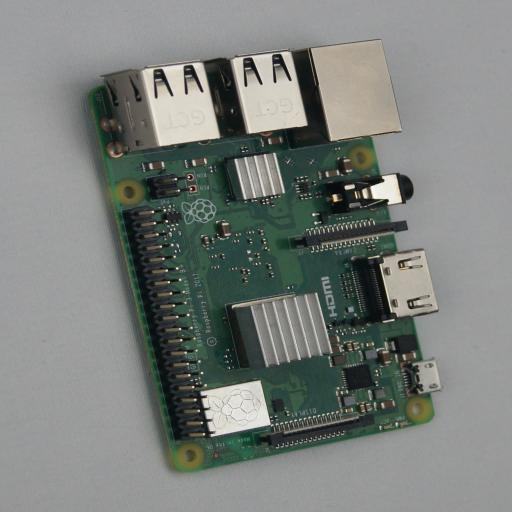Raspberry Pi 3 B-: (79, 38, 440, 472)
